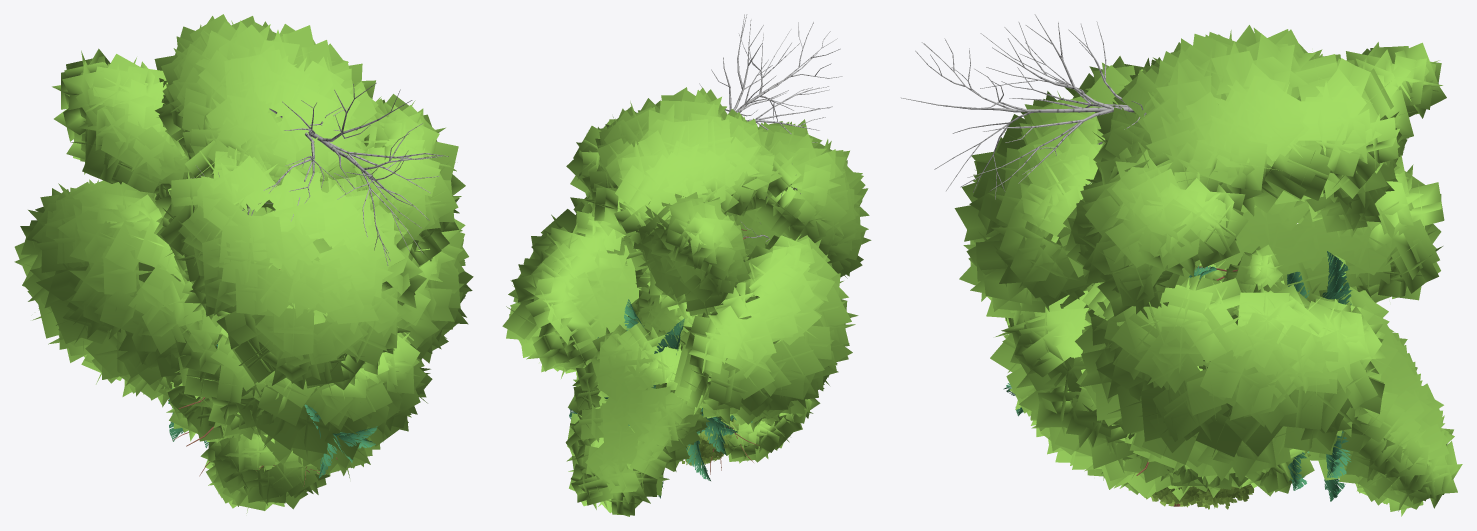
The model's file is illustrated.glb.
3 views of the same model, side by side, from view 1: azimuth 30°, elevation 25°; view 2: azimuth 150°, elevation 25°; view 3: azimuth 270°, elevation 25° (orthographic). The views are drawn at different scales.
Parts seen in each view (by area): view 1: il_tree_birch_02, il_tree_birch_01, il_tree_pine_02; view 2: il_tree_birch_02, il_tree_birch_01, il_tree_pine_02, il_shrub_round_01; view 3: il_tree_birch_02, il_tree_birch_01, il_tree_pine_02, il_shrub_round_01.
Boxes of the visible parts, x1,y1,x2,y2 form: il_tree_birch_02: (14,14,473,477); il_tree_birch_01: (163,165,413,513); il_tree_pine_02: (168,269,377,477); il_tree_birch_02: (502,14,871,516); il_tree_birch_01: (628,187,820,463); il_tree_pine_02: (569,229,761,498); il_shrub_round_01: (682,420,732,465); il_tree_birch_02: (900,14,1462,516); il_tree_birch_01: (1063,244,1314,500); il_tree_pine_02: (1003,251,1352,506); il_shrub_round_01: (1196,484,1253,509).
Size of the model in its own units: 10.08 by 11.18 by 11.49.
8 materials, 7 textured.
